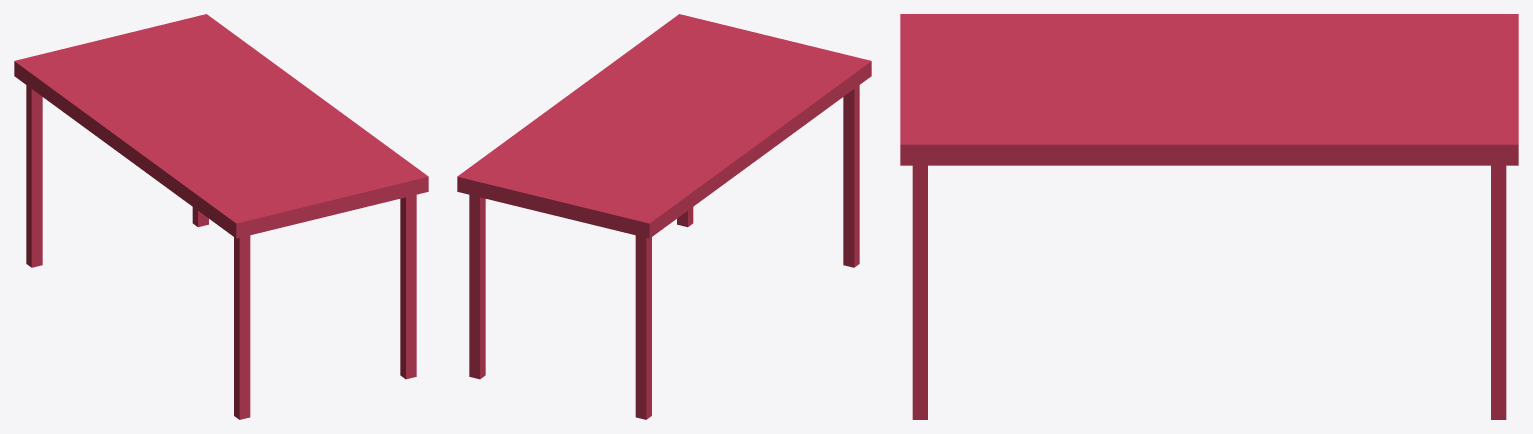
The model's file is RedTable.fbx.
The picture shows the model from 3 angles, left to right: view 1: azimuth 30°, elevation 25°; view 2: azimuth 150°, elevation 25°; view 3: azimuth 270°, elevation 25°; orthographic projection. The views are drawn at different scales.
Visible parts, largest first — view 1: RedTable; view 2: RedTable; view 3: RedTable.
Part boxes in pixels (x1,y1,x2,y2): RedTable: (14,14,428,419); RedTable: (457,14,871,419); RedTable: (900,14,1518,419).
Size of the model in its own units: 200 by 200 by 400.
